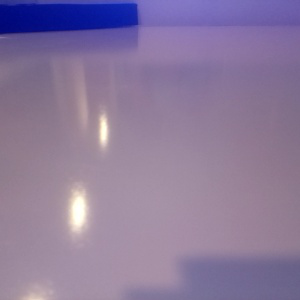zone: (1, 4, 139, 34)
